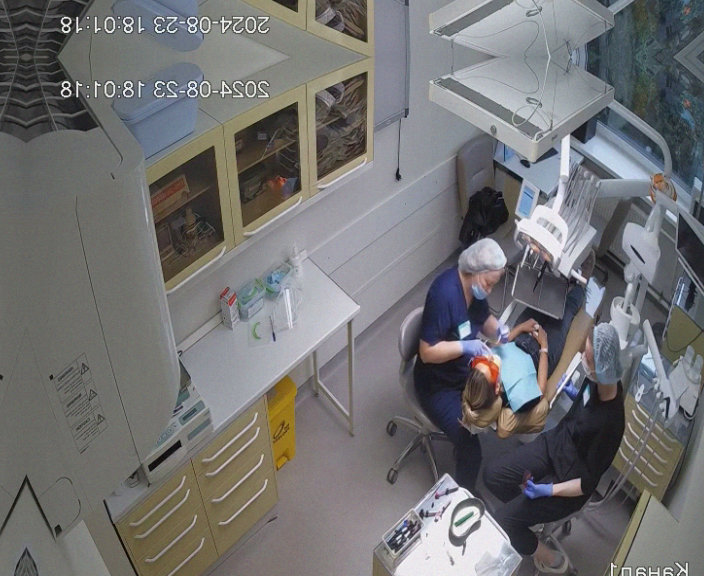Patient: (457, 259, 610, 439)
